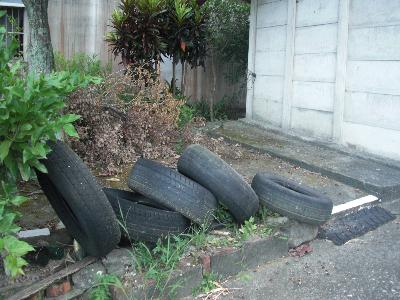tire: (34, 137, 122, 261), (126, 156, 219, 232), (177, 143, 260, 226), (250, 172, 334, 227)
